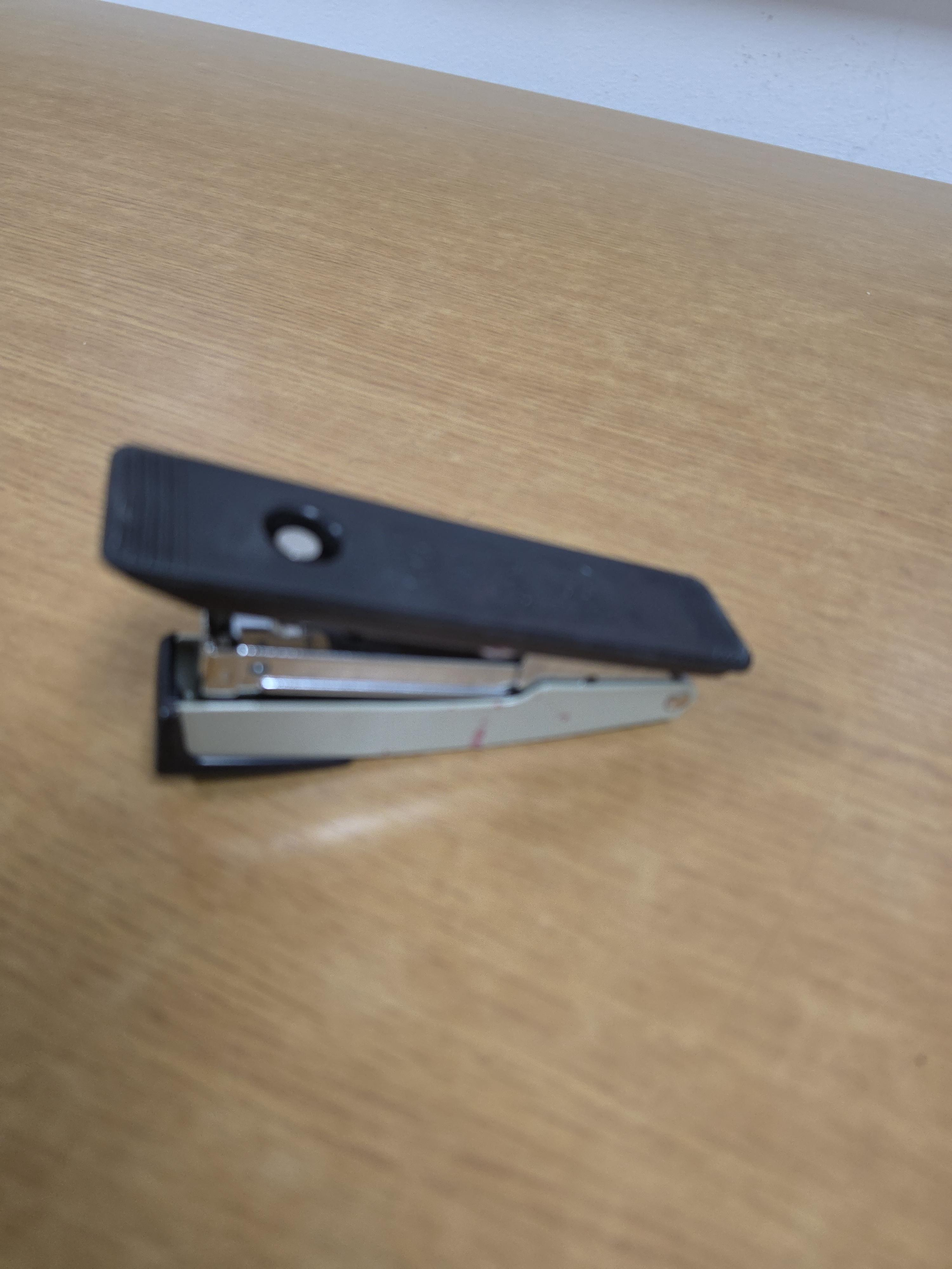stapler: (97, 441, 754, 778)
